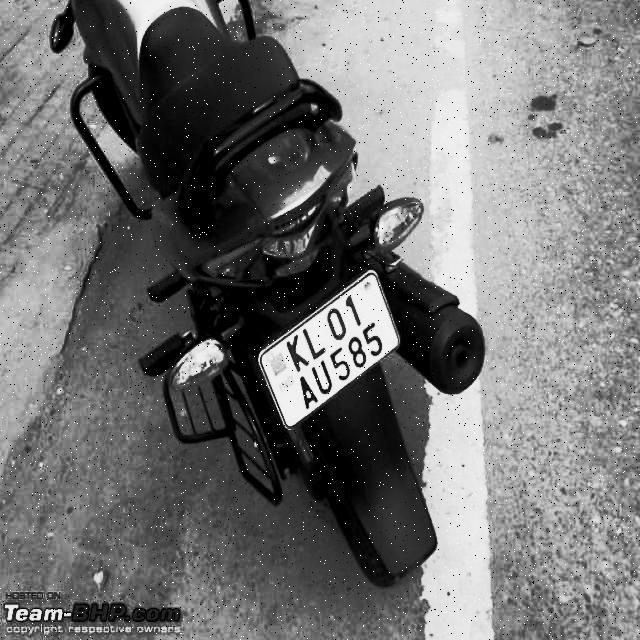Bike: (38, 0, 503, 584)
